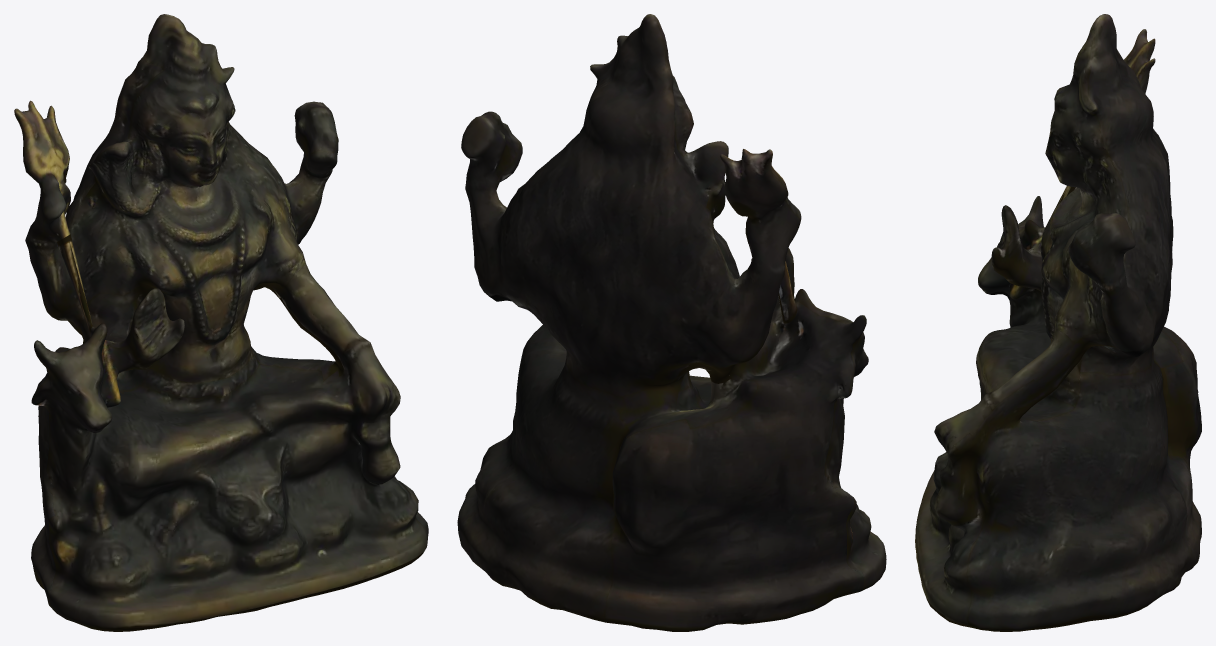
The model's file is shiva.glb.
3 renders of one model, left to right at view 1: azimuth 30°, elevation 25°; view 2: azimuth 150°, elevation 25°; view 3: azimuth 270°, elevation 25°, orthographic. The views are drawn at different scales.
Parts seen in each view (by area): view 1: Shiva_Ciccioga_Scuro_Ori_1_Shiva Ciccioga_0; view 2: Shiva_Ciccioga_Scuro_Ori_1_Shiva Ciccioga_0; view 3: Shiva_Ciccioga_Scuro_Ori_1_Shiva Ciccioga_0.
Boxes of the visible parts, x1,y1,x2,y2 form: Shiva_Ciccioga_Scuro_Ori_1_Shiva Ciccioga_0: [14, 14, 428, 631]; Shiva_Ciccioga_Scuro_Ori_1_Shiva Ciccioga_0: [457, 14, 886, 631]; Shiva_Ciccioga_Scuro_Ori_1_Shiva Ciccioga_0: [915, 14, 1201, 631].
Size of the model in its own units: 17.71 by 24.39 by 12.09.
1 material, 1 textured.
